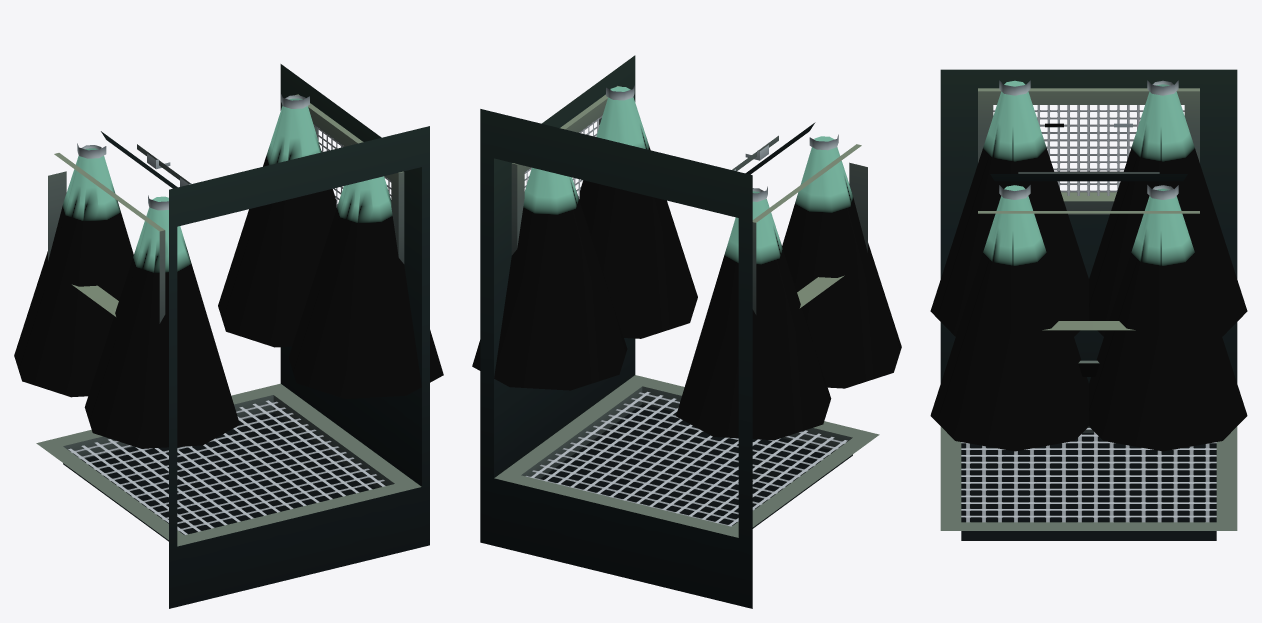
The model's file is tower-elevator.glb.
The picture shows the model from 3 angles, left to right: view 1: azimuth 30°, elevation 25°; view 2: azimuth 150°, elevation 25°; view 3: azimuth 270°, elevation 25°; orthographic projection. The views are drawn at different scales.
Parts seen in each view (by area): view 1: elevator_lightrays, elevator, elevator_floorpanel, elevator_lights; view 2: elevator, elevator_lightrays, elevator_floorpanel, elevator_lights; view 3: elevator_lightrays, elevator, elevator_floorpanel, elevator_sidepanels, elevator_lights.
Part boxes in pixels (x1=…): elevator_lightrays: x1=14, y1=98, x2=443, y2=448; elevator: x1=36, y1=64, x2=429, y2=608; elevator_floorpanel: x1=68, y1=400, x2=385, y2=534; elevator_lights: x1=77, y1=94, x2=309, y2=210; elevator: x1=480, y1=55, x2=879, y2=608; elevator_lightrays: x1=472, y1=86, x2=901, y2=440; elevator_floorpanel: x1=525, y1=391, x2=847, y2=526; elevator_lights: x1=606, y1=85, x2=838, y2=201; elevator_lightrays: x1=930, y1=80, x2=1247, y2=451; elevator: x1=940, y1=69, x2=1237, y2=540; elevator_floorpanel: x1=961, y1=428, x2=1216, y2=522; elevator_sidepanels: x1=993, y1=105, x2=1184, y2=195; elevator_lights: x1=999, y1=80, x2=1178, y2=199.
Size of what is drawn, in the model's own units: 4.21 by 5.08 by 3.21.
Materials: 3 (3 with a texture image).
